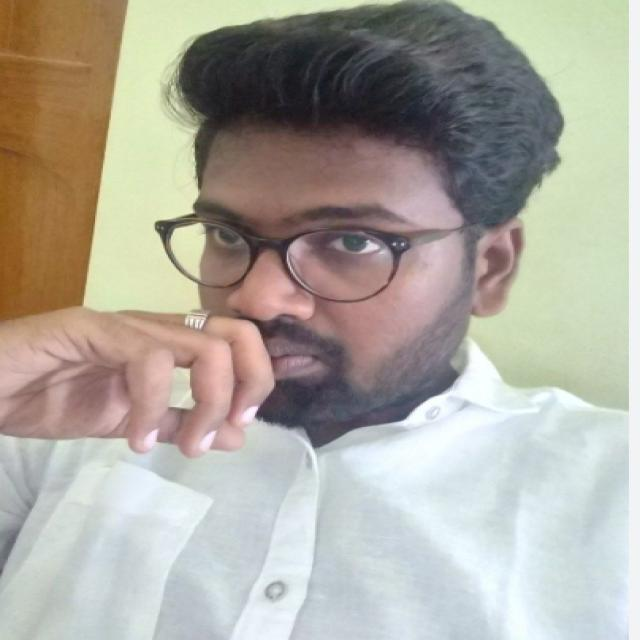face_no_mask: (191, 116, 550, 419)
